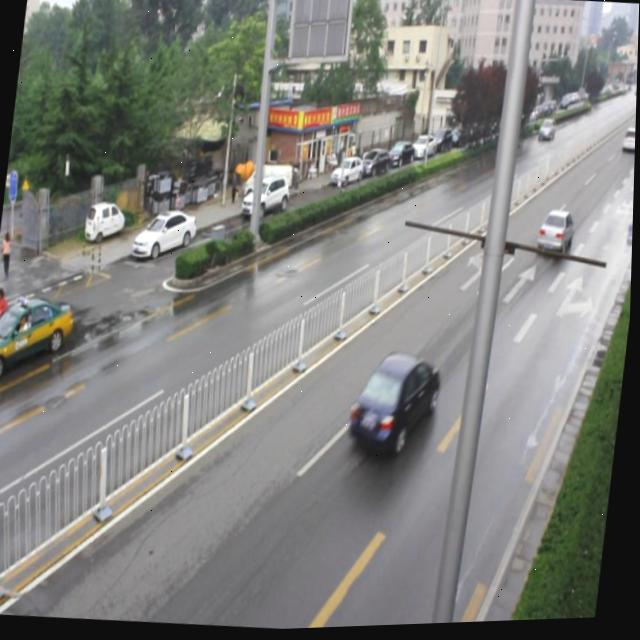car: (346, 348, 445, 465), (536, 212, 574, 260)
